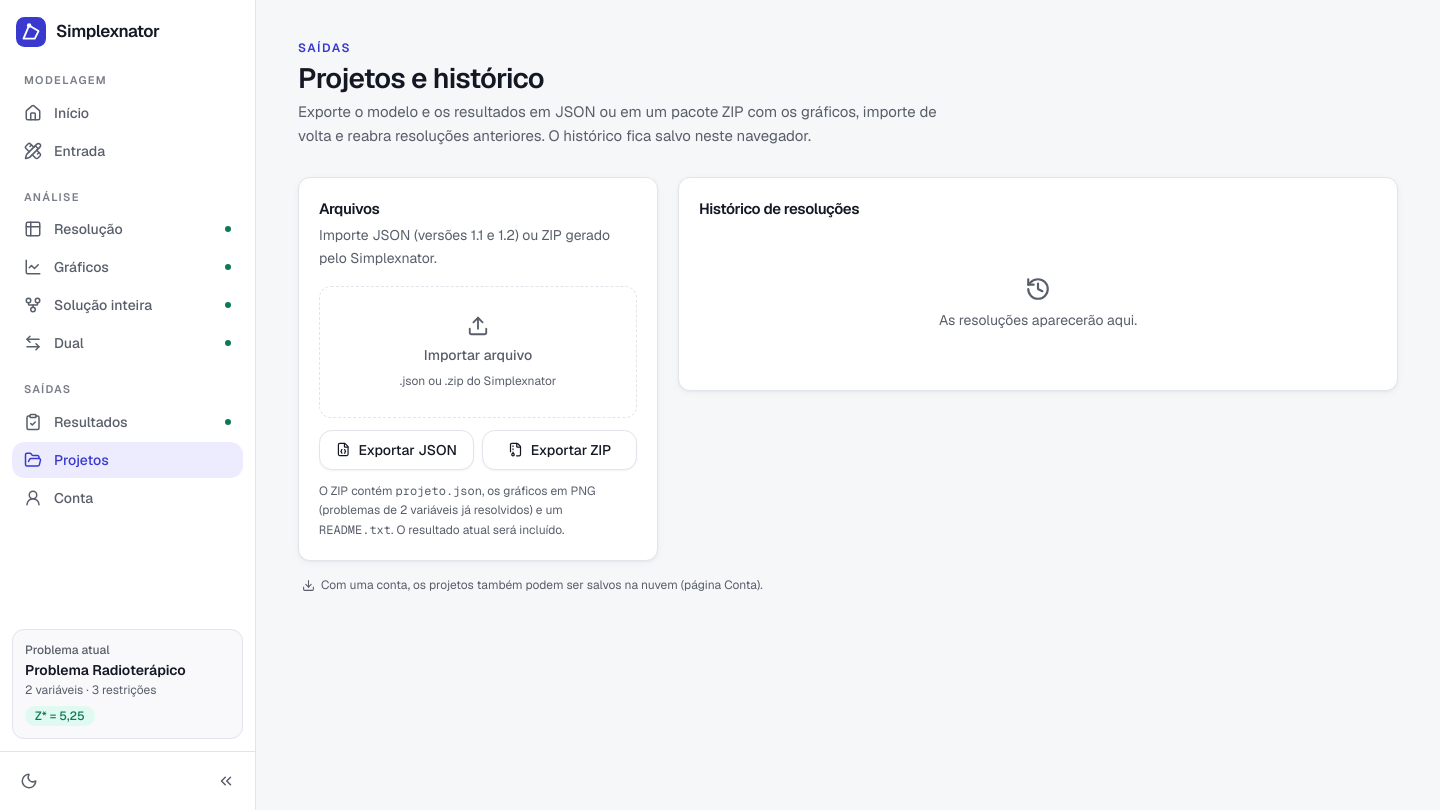
Scenario: exportação pela interface › exporta JSON no formato novo, legível também pelo formato antigo ({problem, result})
Click the button "Exportar JSON" at (396,450), box [319,430,474,470]
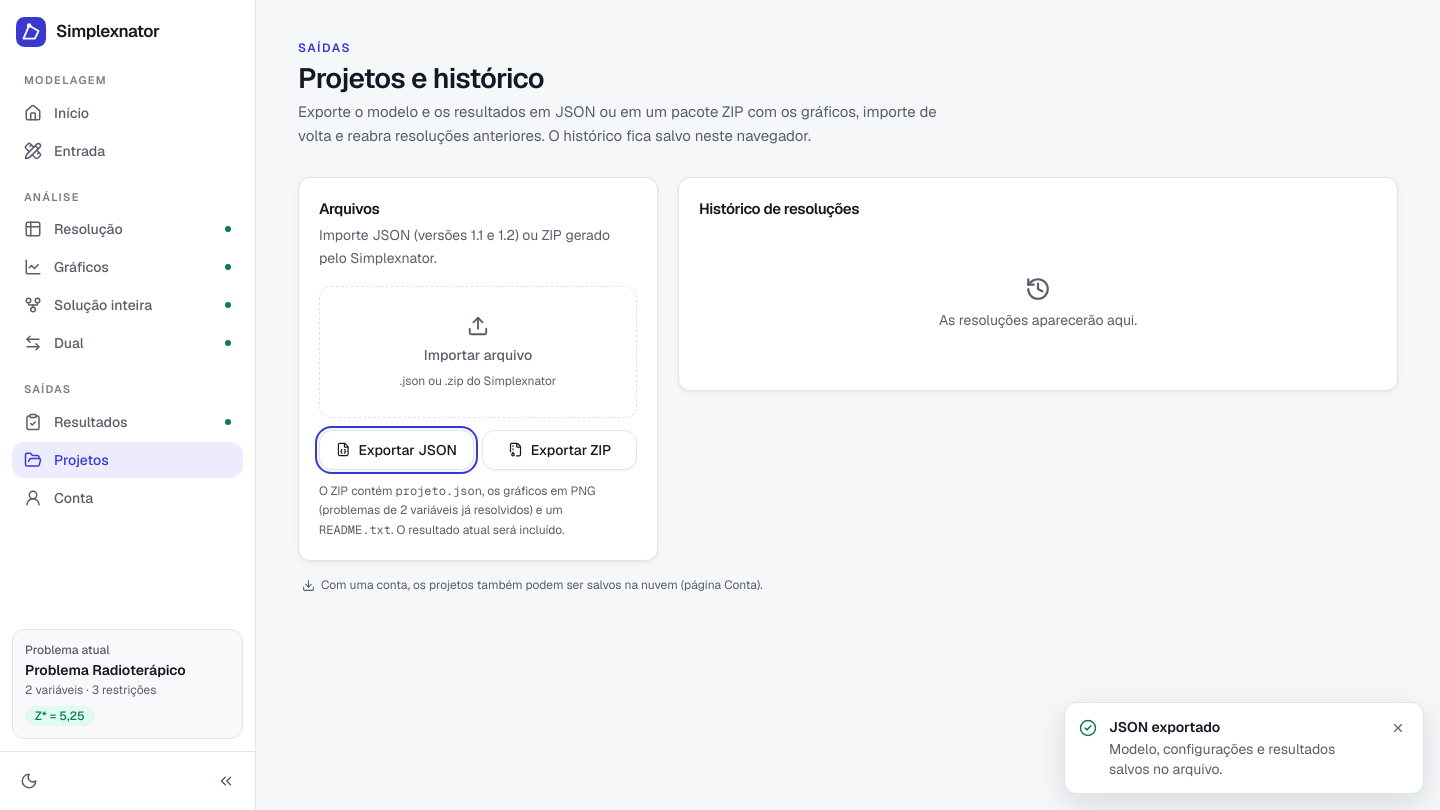
Check: the text "Problema Radioterápico" is shown, box [25,661,186,679]
Check: the text "JSON exportado" is shown, box [1109,718,1220,736]
